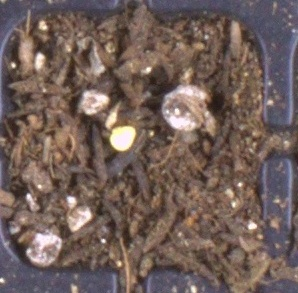chilli seed: (109, 125, 136, 152)
